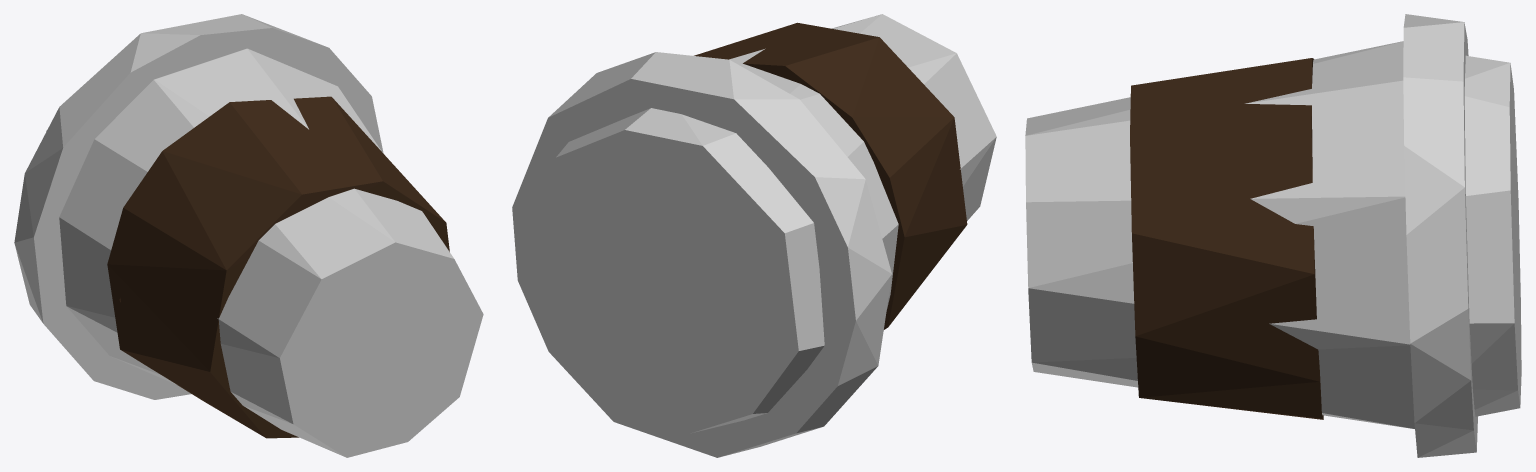
The model's file is food_2_coffee.fbx.
The picture shows the model from 3 angles, left to right: view 1: azimuth 30°, elevation 25°; view 2: azimuth 150°, elevation 25°; view 3: azimuth 270°, elevation 25°; orthographic projection. The views are drawn at different scales.
Parts seen in each view (by area): view 1: food_coffee; view 2: food_coffee; view 3: food_coffee.
Part boxes in pixels (x1,y1,x2,y2): food_coffee: [14, 14, 483, 457]; food_coffee: [512, 14, 996, 457]; food_coffee: [1025, 14, 1521, 457].
Bounding box in the file's own units: 44.09 × 43.79 × 48.65.
